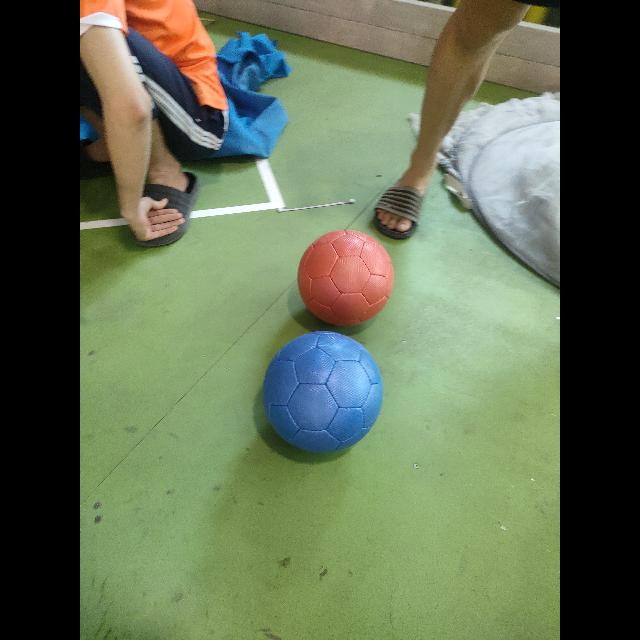B: (264, 332, 384, 452)
R: (299, 229, 395, 329)
